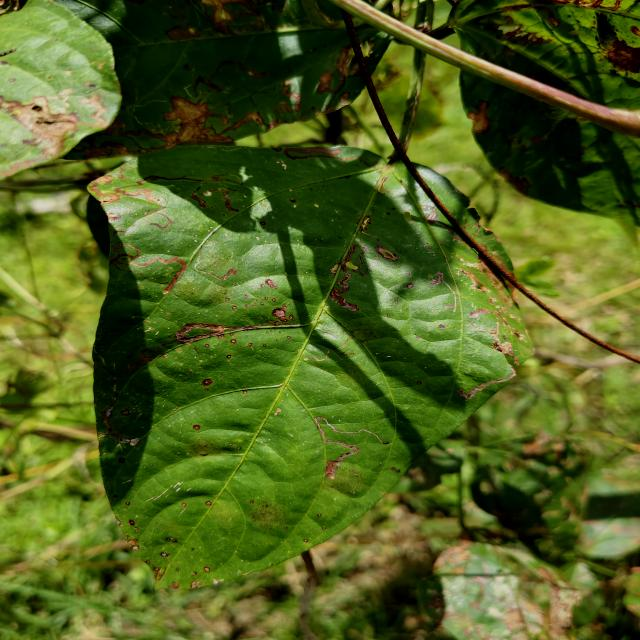sitaw-aphid-high: (90, 142, 532, 592)
sitaw-aphid-low: (2, 0, 362, 177), (460, 69, 640, 226), (427, 0, 640, 111)
